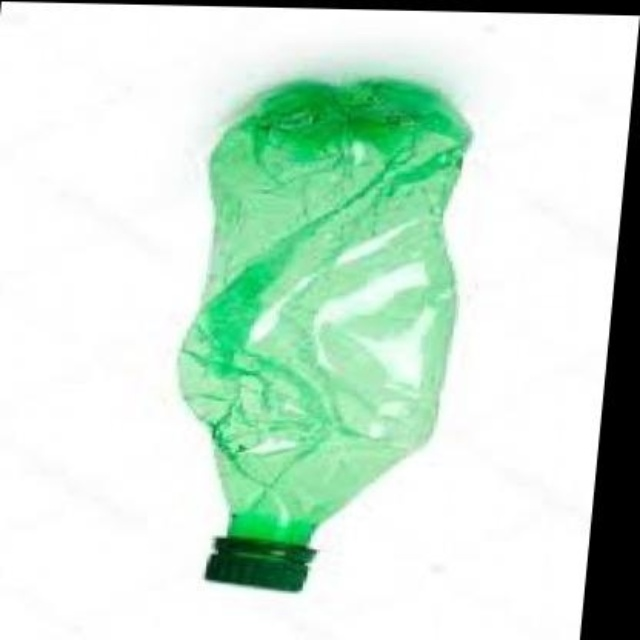trash: (180, 78, 469, 589)
